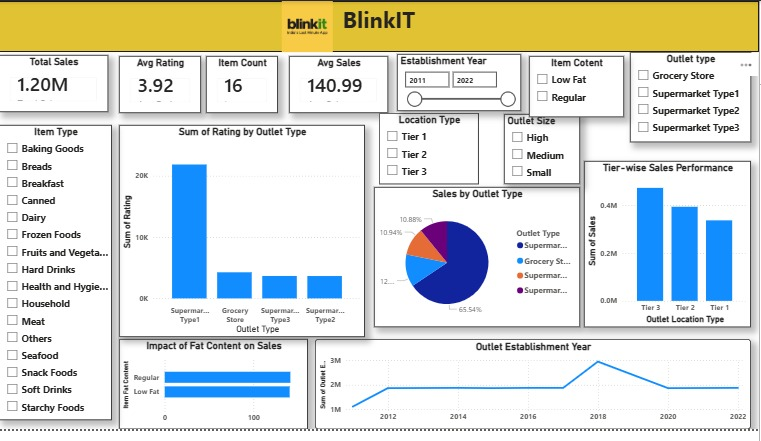

The page's visual inventory and layout, read from the dashboard file:
{"tool":"powerbi","page":{"name":"Page 1","canvas":[1280,720],"ordinal":0},"visuals":[{"type":"cardVisual","title":"Total Sales","fields":{"Data":["Sum(BlinkIT-Grocery-Data.Sales)"]},"box":[0,90.9,183.6,96],"z":0},{"type":"cardVisual","title":"Avg Sales","fields":{"Data":["Avg(BlinkIT-Grocery-Data.Sales)"]},"box":[488.4,92.6,166.7,96],"z":1000},{"type":"pieChart","title":"Sales by Outlet Type","fields":{"Category":["BlinkIT-Grocery-Data.Outlet Type"],"Y":["Sum(BlinkIT-Grocery-Data.Sales)"]},"box":[631.6,313.3,346.9,235.8],"z":3000},{"type":"columnChart","title":"Tier-wise Sales Performance","fields":{"Y":["Sum(BlinkIT-Grocery-Data.Sales)"],"Category":["BlinkIT-Grocery-Data.Outlet Location Type"]},"box":[985.3,269.5,281.3,279.6],"z":4000},{"type":"barChart","title":"Impact of Fat Content on Sales","fields":{"Y":["Avg(BlinkIT-Grocery-Data.Sales)"],"Category":["BlinkIT-Grocery-Data.Item Fat Content"]},"box":[202.1,569.3,318.3,151.6],"z":5000},{"type":"slicer","title":"Outlet Size","fields":{"Values":["BlinkIT-Grocery-Data.Outlet Size"]},"box":[850.5,190.3,128,117.9],"z":6000},{"type":"slicer","title":"Outlet type","fields":{"Values":["BlinkIT-Grocery-Data.Outlet Type"]},"box":[1062.7,85.9,203.8,151.6],"z":7000},{"type":"slicer","title":"Item Cotent","fields":{"Values":["BlinkIT-Grocery-Data.Item Fat Content"]},"box":[892.6,92.6,160,102.7],"z":8000},{"type":"cardVisual","title":"Avg Rating","fields":{"Data":["Avg(BlinkIT-Grocery-Data.Rating)"]},"box":[202.1,92.6,138.1,96],"z":9000},{"type":"cardVisual","title":"Item Count","fields":{"Data":["Count(BlinkIT-Grocery-Data.Item Type)"]},"box":[348.6,92.6,121.3,96],"z":10000},{"type":"lineChart","title":"Outlet Establishment Year","fields":{"Category":["BlinkIT-Grocery-Data.Outlet Establishment Year"],"Y":["Sum(BlinkIT-Grocery-Data.Outlet Establishment Year)"]},"box":[532.2,569.3,734.3,151.6],"z":11000},{"type":"clusteredColumnChart","fields":{"Category":["BlinkIT-Grocery-Data.Outlet Type"],"Y":["Sum(BlinkIT-Grocery-Data.Rating)"]},"box":[202.1,208.8,414.3,357.1],"z":11002},{"type":"slicer","title":"Location Type","fields":{"Values":["BlinkIT-Grocery-Data.Outlet Location Type"]},"box":[640,188.6,168.4,119.6],"z":11003},{"type":"slicer","title":"Item Type","fields":{"Values":["BlinkIT-Grocery-Data.Item Type"]},"box":[0,208.8,190.3,496.8],"z":11004},{"type":"slicer","title":"Establishment Year","fields":{"Values":["BlinkIT-Grocery-Data.Outlet Establishment Year"]},"box":[670.3,89.3,208.8,96],"z":11005},{"type":"textbox","box":[0,0,1280,85.7],"z":11006},{"type":"image","box":[436.7,0,166.3,85.7],"z":11007}]}

Visuals, with their boxes in screenshot pixels (x1, y1, x2, y2), scaled from the page's 1280x720 canvas onto the 761x441 screenshot:
"Total Sales" cardVisual: BBox(0, 56, 109, 114)
"Avg Sales" cardVisual: BBox(290, 57, 389, 116)
"Sales by Outlet Type" pieChart: BBox(376, 192, 582, 336)
"Tier-wise Sales Performance" columnChart: BBox(586, 165, 753, 336)
"Impact of Fat Content on Sales" barChart: BBox(120, 349, 309, 440)
"Outlet Size" slicer: BBox(506, 117, 582, 189)
"Outlet type" slicer: BBox(632, 53, 753, 145)
"Item Cotent" slicer: BBox(531, 57, 626, 120)
"Avg Rating" cardVisual: BBox(120, 57, 202, 116)
"Item Count" cardVisual: BBox(207, 57, 279, 116)
"Outlet Establishment Year" lineChart: BBox(316, 349, 753, 440)
clusteredColumnChart - BlinkIT-Grocery-Data.Outlet Type x Sum(BlinkIT-Grocery-Data.Rating): BBox(120, 128, 366, 347)
"Location Type" slicer: BBox(380, 116, 481, 189)
"Item Type" slicer: BBox(0, 128, 113, 432)
"Establishment Year" slicer: BBox(399, 55, 523, 113)
textbox: BBox(0, 0, 760, 52)
image: BBox(260, 0, 359, 52)
